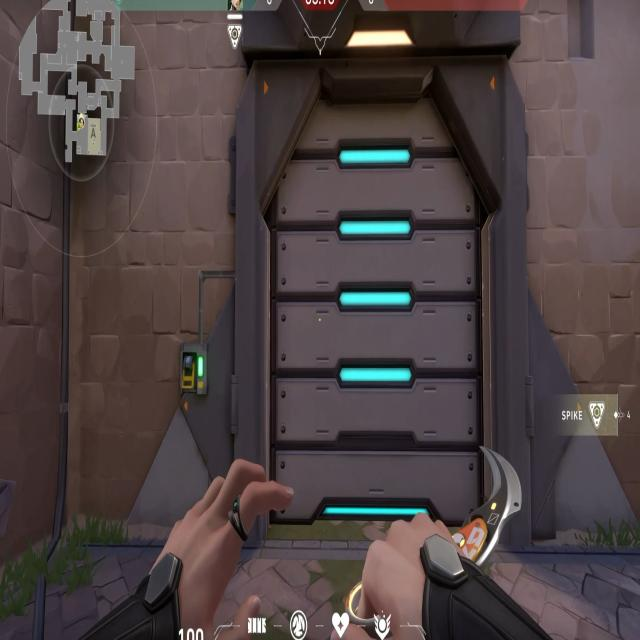A_Door: (250, 53, 524, 524)
